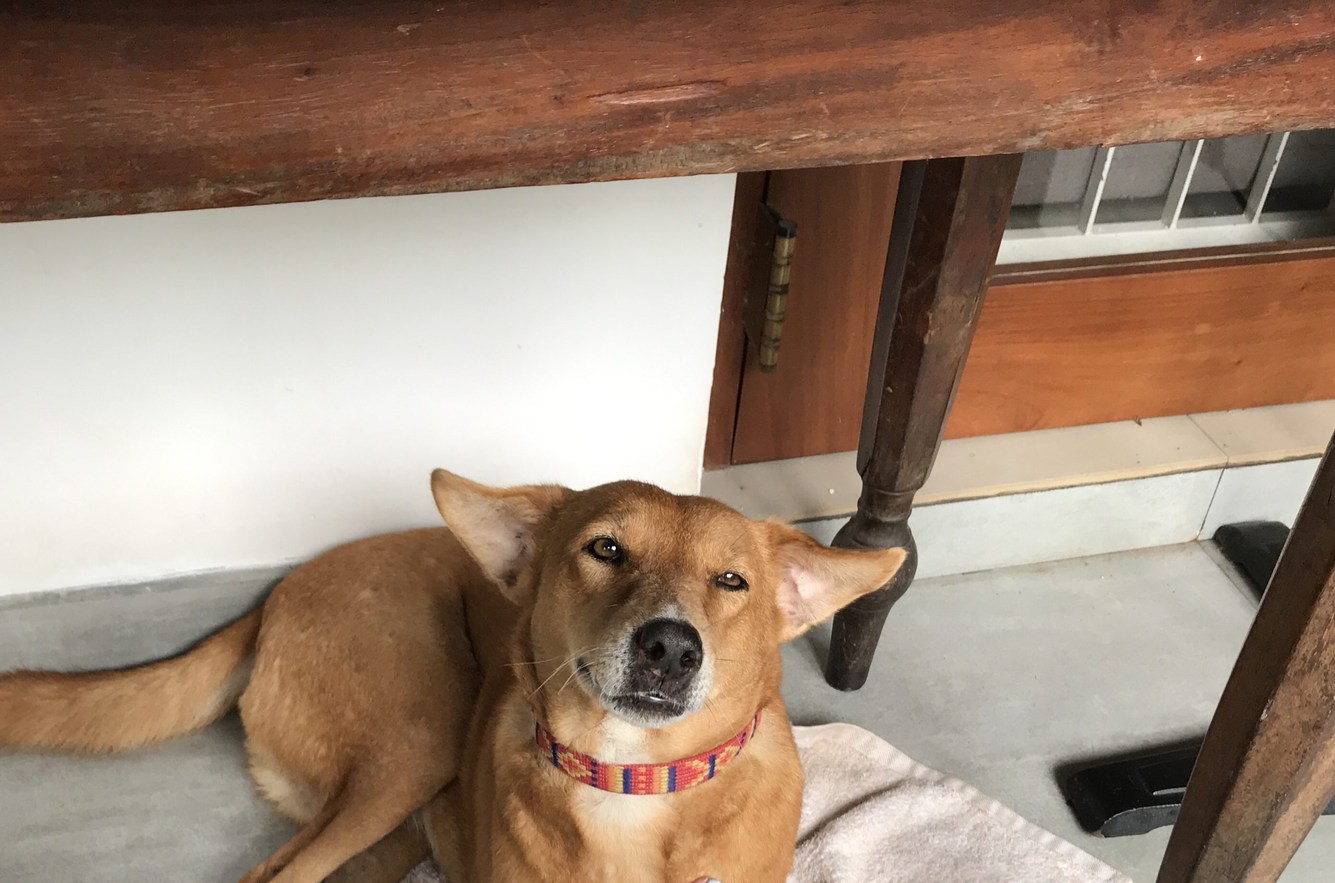Dog: (13, 445, 967, 883)
